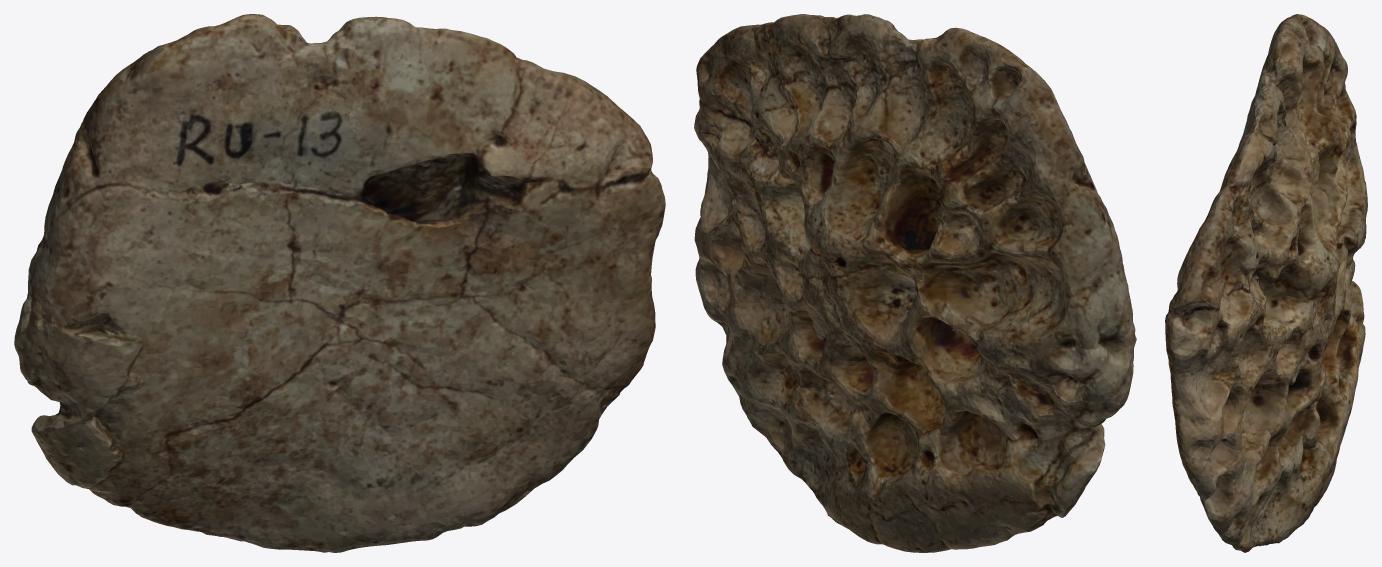
The model's file is 1-2 Crocodile scale sheets.glb.
The picture shows the model from 3 angles, left to right: view 1: azimuth 30°, elevation 25°; view 2: azimuth 150°, elevation 25°; view 3: azimuth 270°, elevation 25°; orthographic projection. The views are drawn at different scales.
Visible parts, largest first — view 1: 3DModel; view 2: 3DModel; view 3: 3DModel.
Part boxes in pixels (left/top/right/bottom): 3DModel: left=14, top=14, right=665, bottom=552; 3DModel: left=694, top=14, right=1136, bottom=552; 3DModel: left=1165, top=14, right=1367, bottom=552.
Size of the model in its own units: 0.3096 by 0.3027 by 0.1214.
1 material, 1 textured.
